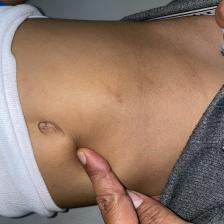DA: (103, 84, 132, 110), (19, 75, 42, 98)
